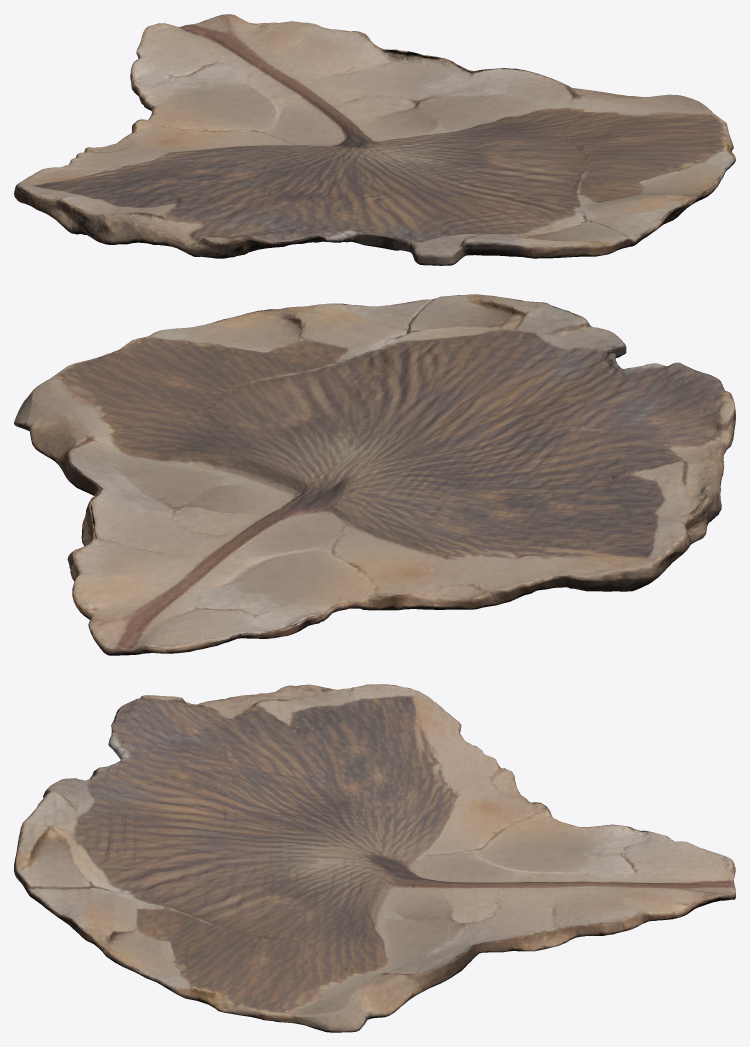
3 views of the same model, one above another, from view 1: azimuth 30°, elevation 25°; view 2: azimuth 150°, elevation 25°; view 3: azimuth 270°, elevation 25° (orthographic). The views are drawn at different scales.
Parts seen in each view (by area): view 1: world; view 2: world; view 3: world.
Part boxes in pixels (<box>): world: <box>14,14,735,265</box>; world: <box>14,294,735,655</box>; world: <box>14,684,735,1032</box>.
Bounding box in the file's own units: 0.6382 × 0.082 × 0.65.
Materials: 1 (1 with a texture image).
